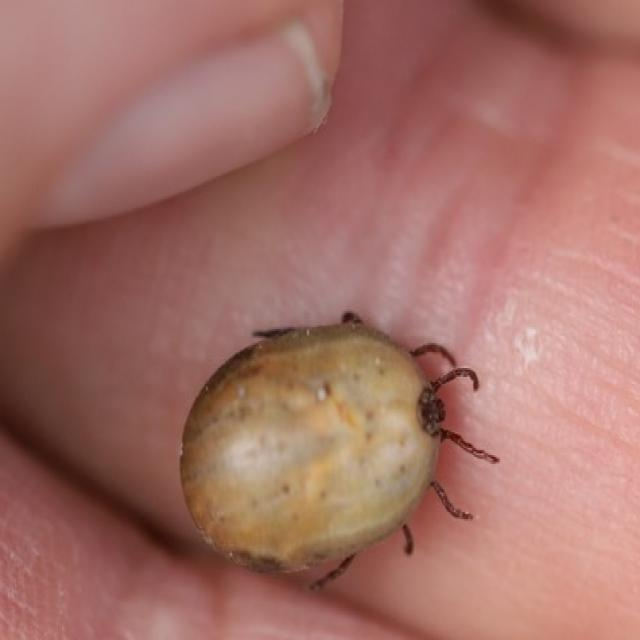Dermacentor Reticulatus-F-Fed: (181, 311, 500, 590)
